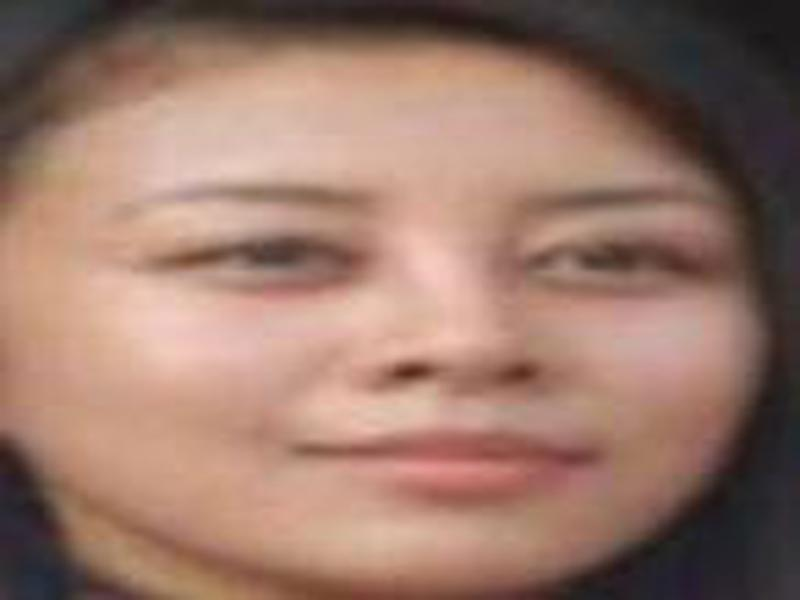without_mask: (14, 79, 758, 585)
